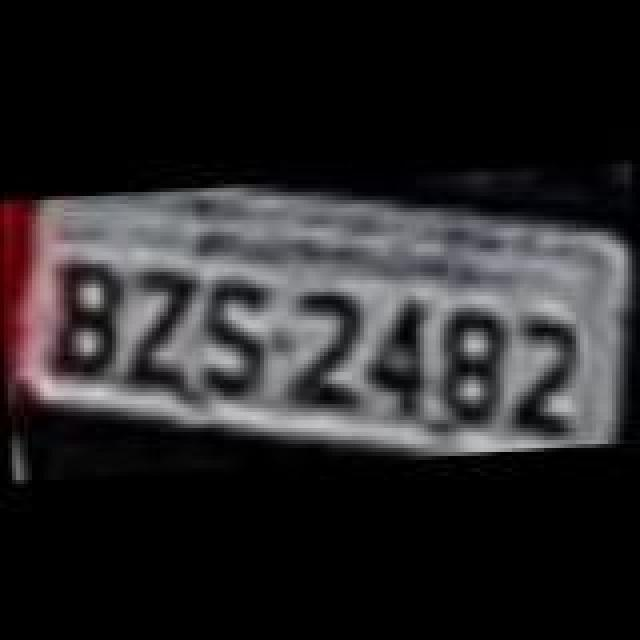2: (278, 288, 366, 412), (508, 320, 584, 440)
4: (364, 294, 440, 422)
8: (436, 300, 512, 424)
B: (42, 254, 130, 378)
S: (190, 274, 278, 402)
Z: (118, 264, 206, 392)
